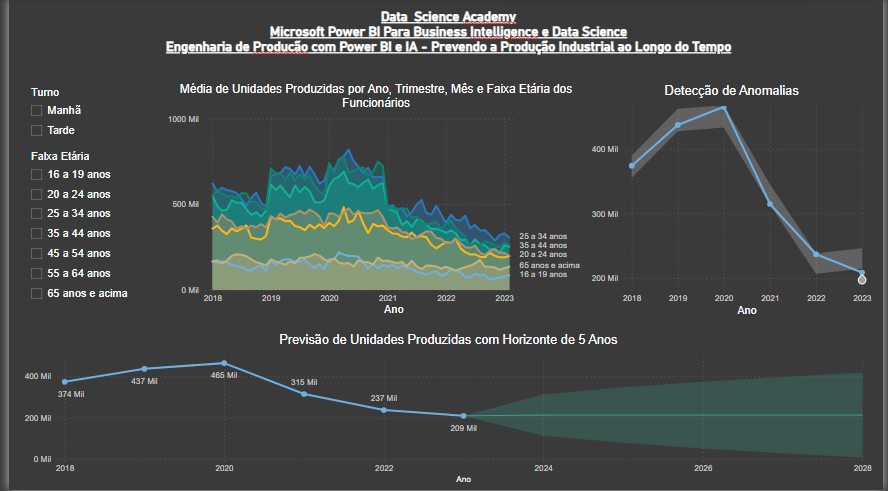

What the dashboard file says about the page in this screenshot:
{"tool":"powerbi","page":{"name":"Lab9","canvas":[1280,720],"ordinal":0},"visuals":[{"type":"areaChart","title":"Média de Unidades Produzidas por Ano, Trimestre, Mês e Faixa Etária dos Funcionários","fields":{"Category":["Producao.Período.Variation.Hierarquia de datas.Ano","Producao.Período.Variation.Hierarquia de datas.Trimestre","Producao.Período.Variation.Hierarquia de datas.Mês","Producao.Período.Variation.Hierarquia de datas.Dia"],"Y":["Avg(Producao.Total Unidades Produzidas)"],"Series":["Producao.Range Idade Funcionários"]},"box":[227.4,123.5,620.4,346.5],"z":0},{"type":"slicer","fields":{"Values":["Producao.Turno"]},"box":[18.6,123.9,187.1,94.2],"z":1000},{"type":"slicer","fields":{"Values":["Producao.Range Idade Funcionários"]},"box":[18.6,218.1,187.1,251.6],"z":2000},{"type":"lineChart","title":"Previsão de Unidades Produzidas com Horizonte de 5 Anos","fields":{"Category":["Producao.Período.Variation.Hierarquia de datas.Ano","Producao.Período.Variation.Hierarquia de datas.Trimestre","Producao.Período.Variation.Hierarquia de datas.Mês","Producao.Período.Variation.Hierarquia de datas.Dia"],"Y":["Avg(Producao.Total Unidades Produzidas)"]},"box":[17.3,488.3,1250.4,226.8],"z":3000},{"type":"lineChart","title":"Detecção de Anomalias","fields":{"Category":["Producao.Período.Variation.Hierarquia de datas.Ano","Producao.Período.Variation.Hierarquia de datas.Trimestre","Producao.Período.Variation.Hierarquia de datas.Mês","Producao.Período.Variation.Hierarquia de datas.Dia"],"Y":["Avg(Producao.Total Unidades Produzidas)"]},"box":[847.6,123.9,420.1,345.7],"z":4000},{"type":"textbox","box":[17.3,9.9,1251.6,84.3],"z":5000}]}

Visuals, with their boxes in screenshot pixels (x1, y1, x2, y2), scaled from the page's 1280x720 canvas onto the 888x491 screenshot:
"Média de Unidades Produzidas por Ano, Trimestre, Mês e Faixa Etária dos Funcionários" areaChart: <bbox>158, 84, 588, 321</bbox>
slicer - Producao.Turno: <bbox>13, 84, 143, 149</bbox>
slicer - Producao.Range Idade Funcionários: <bbox>13, 149, 143, 320</bbox>
"Previsão de Unidades Produzidas com Horizonte de 5 Anos" lineChart: <bbox>12, 333, 879, 488</bbox>
"Detecção de Anomalias" lineChart: <bbox>588, 84, 879, 320</bbox>
textbox: <bbox>12, 7, 880, 64</bbox>
